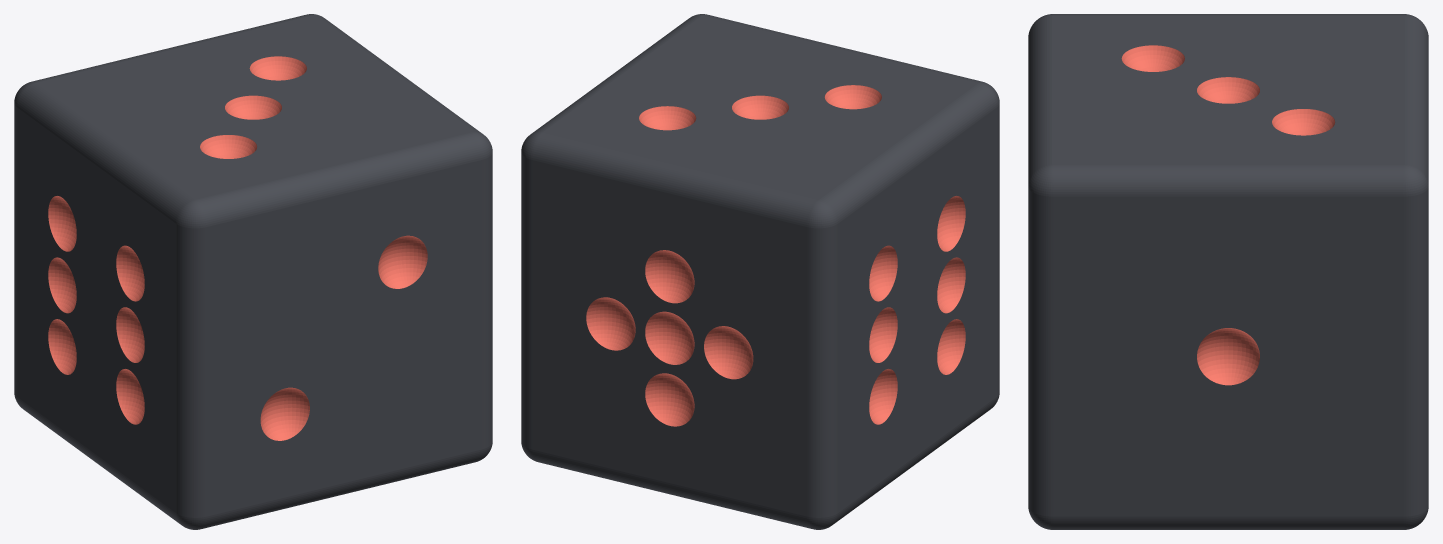
File: cad-d6-openscad.glb
3 renders of one model, left to right at view 1: azimuth 30°, elevation 25°; view 2: azimuth 150°, elevation 25°; view 3: azimuth 270°, elevation 25°, orthographic. The views are drawn at different scales.
Visible parts, largest first — view 1: cad-d6-openscad; view 2: cad-d6-openscad; view 3: cad-d6-openscad.
Part boxes in pixels (x1,y1,x2,y2): cad-d6-openscad: (14,14,492,529); cad-d6-openscad: (521,14,999,529); cad-d6-openscad: (1028,14,1428,529).
Bounding box in the file's own units: 16 × 16 × 16.
